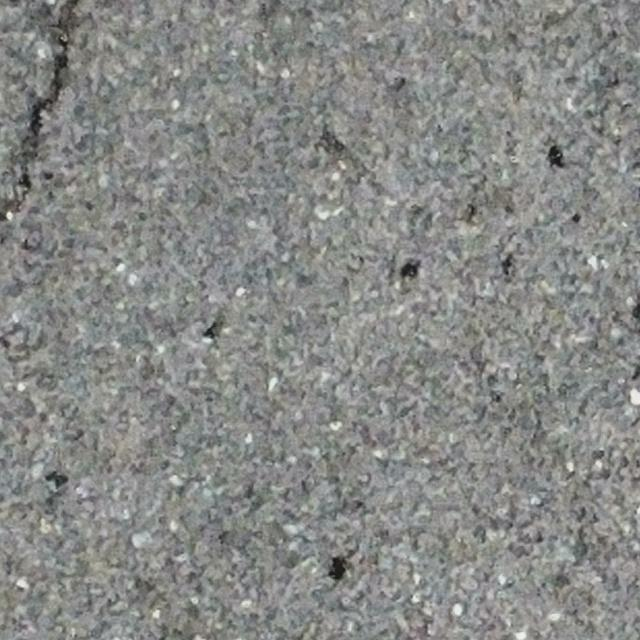LongitudinalCrack: (3, 27, 72, 219)
